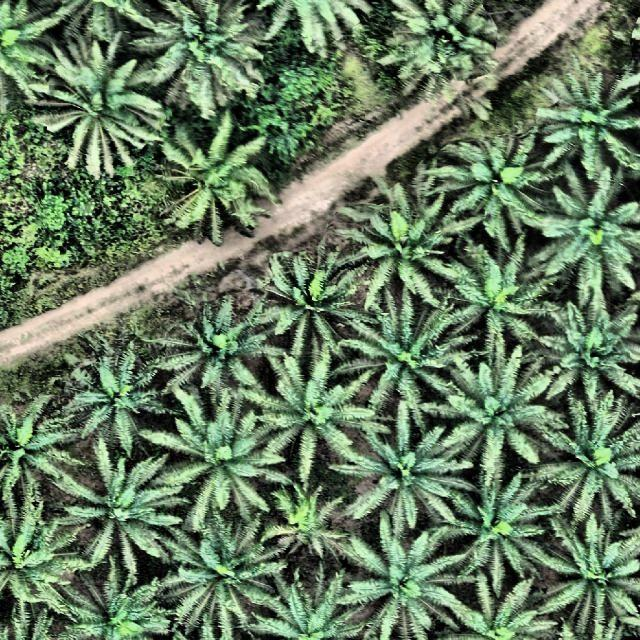Kelapa_Sawit: (56, 447, 183, 570), (156, 392, 282, 510), (39, 51, 163, 168), (256, 348, 367, 469), (338, 528, 457, 639), (153, 126, 272, 236), (344, 304, 456, 420), (379, 0, 504, 98), (182, 518, 288, 632), (536, 529, 640, 640), (445, 468, 547, 580), (441, 366, 552, 468), (342, 428, 460, 522), (547, 408, 640, 522), (533, 186, 640, 284), (360, 204, 462, 304), (162, 11, 266, 103), (64, 350, 170, 438), (268, 255, 362, 353), (450, 146, 550, 238), (160, 306, 268, 389), (547, 304, 640, 400), (436, 567, 558, 640), (461, 253, 547, 352), (542, 84, 640, 170), (264, 482, 352, 566), (267, 0, 370, 70), (70, 573, 174, 640), (0, 497, 58, 608), (0, 0, 59, 106), (266, 567, 350, 640), (0, 389, 50, 489)
